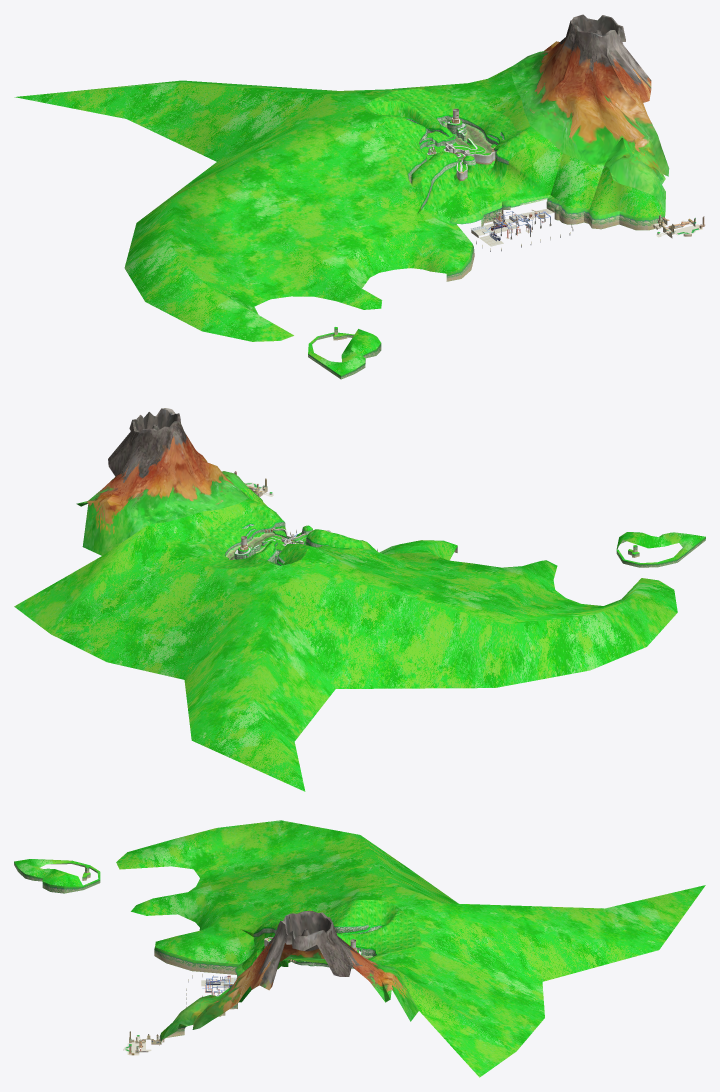
File: BiancoHillsOG.obj
The picture shows the model from 3 angles, top to bottom: view 1: azimuth 30°, elevation 25°; view 2: azimuth 150°, elevation 25°; view 3: azimuth 270°, elevation 25°; orthographic projection. The views are drawn at different scales.
Size of the model in its own units: 2218 by 572 by 2665.
